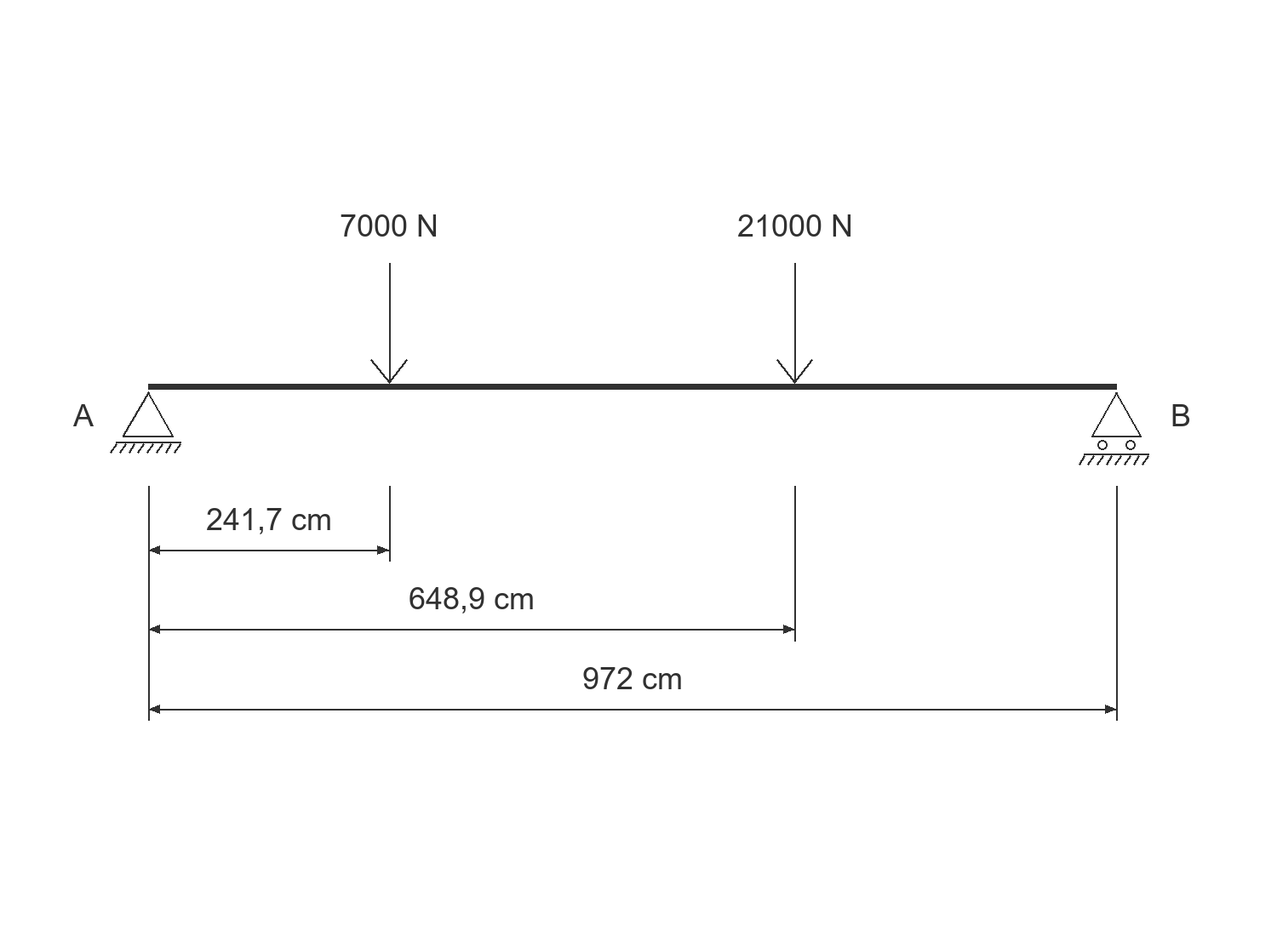pin_support: (110, 391, 181, 454)
point_load: (370, 263, 408, 384), (776, 263, 813, 384)
roller_support: (1079, 392, 1149, 465)
